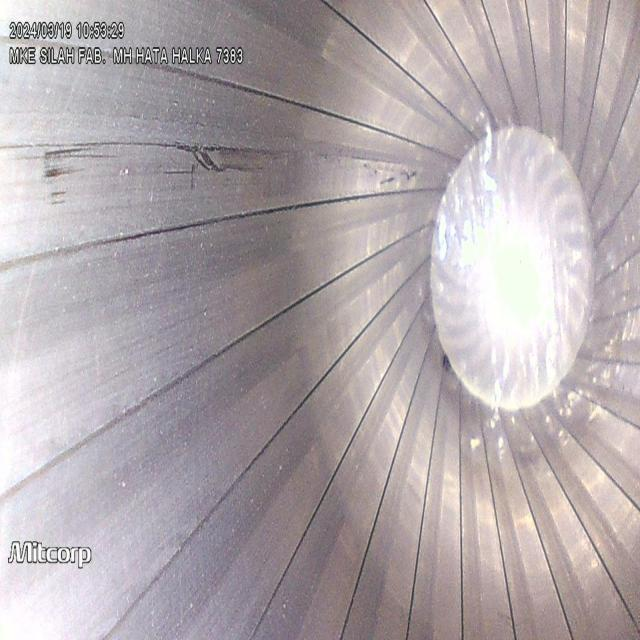hata_8.2: (156, 121, 286, 202)
